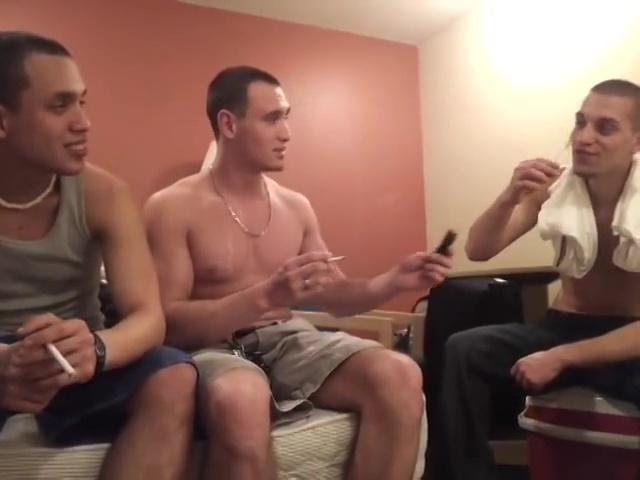cigarette: (42, 338, 81, 379), (321, 253, 348, 266)
